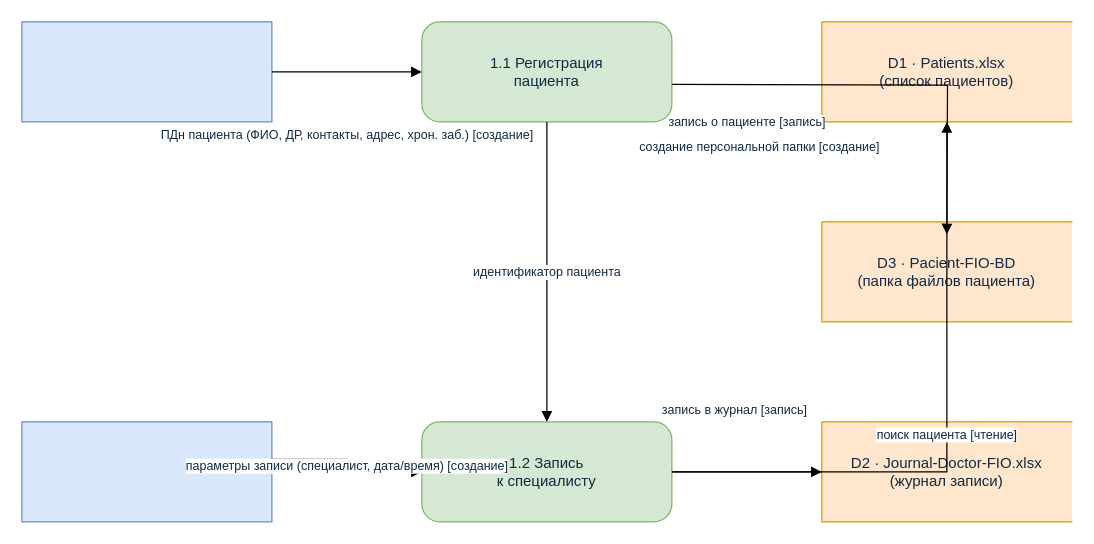
Image size: 1094x544. Some labels were removed from this diagram. Here are the shapes that lost their labels. From the top down, the box of each, then its label:
(21, 21, 272, 122): Пациент
(21, 421, 272, 522): Ресепшен (администратор)
